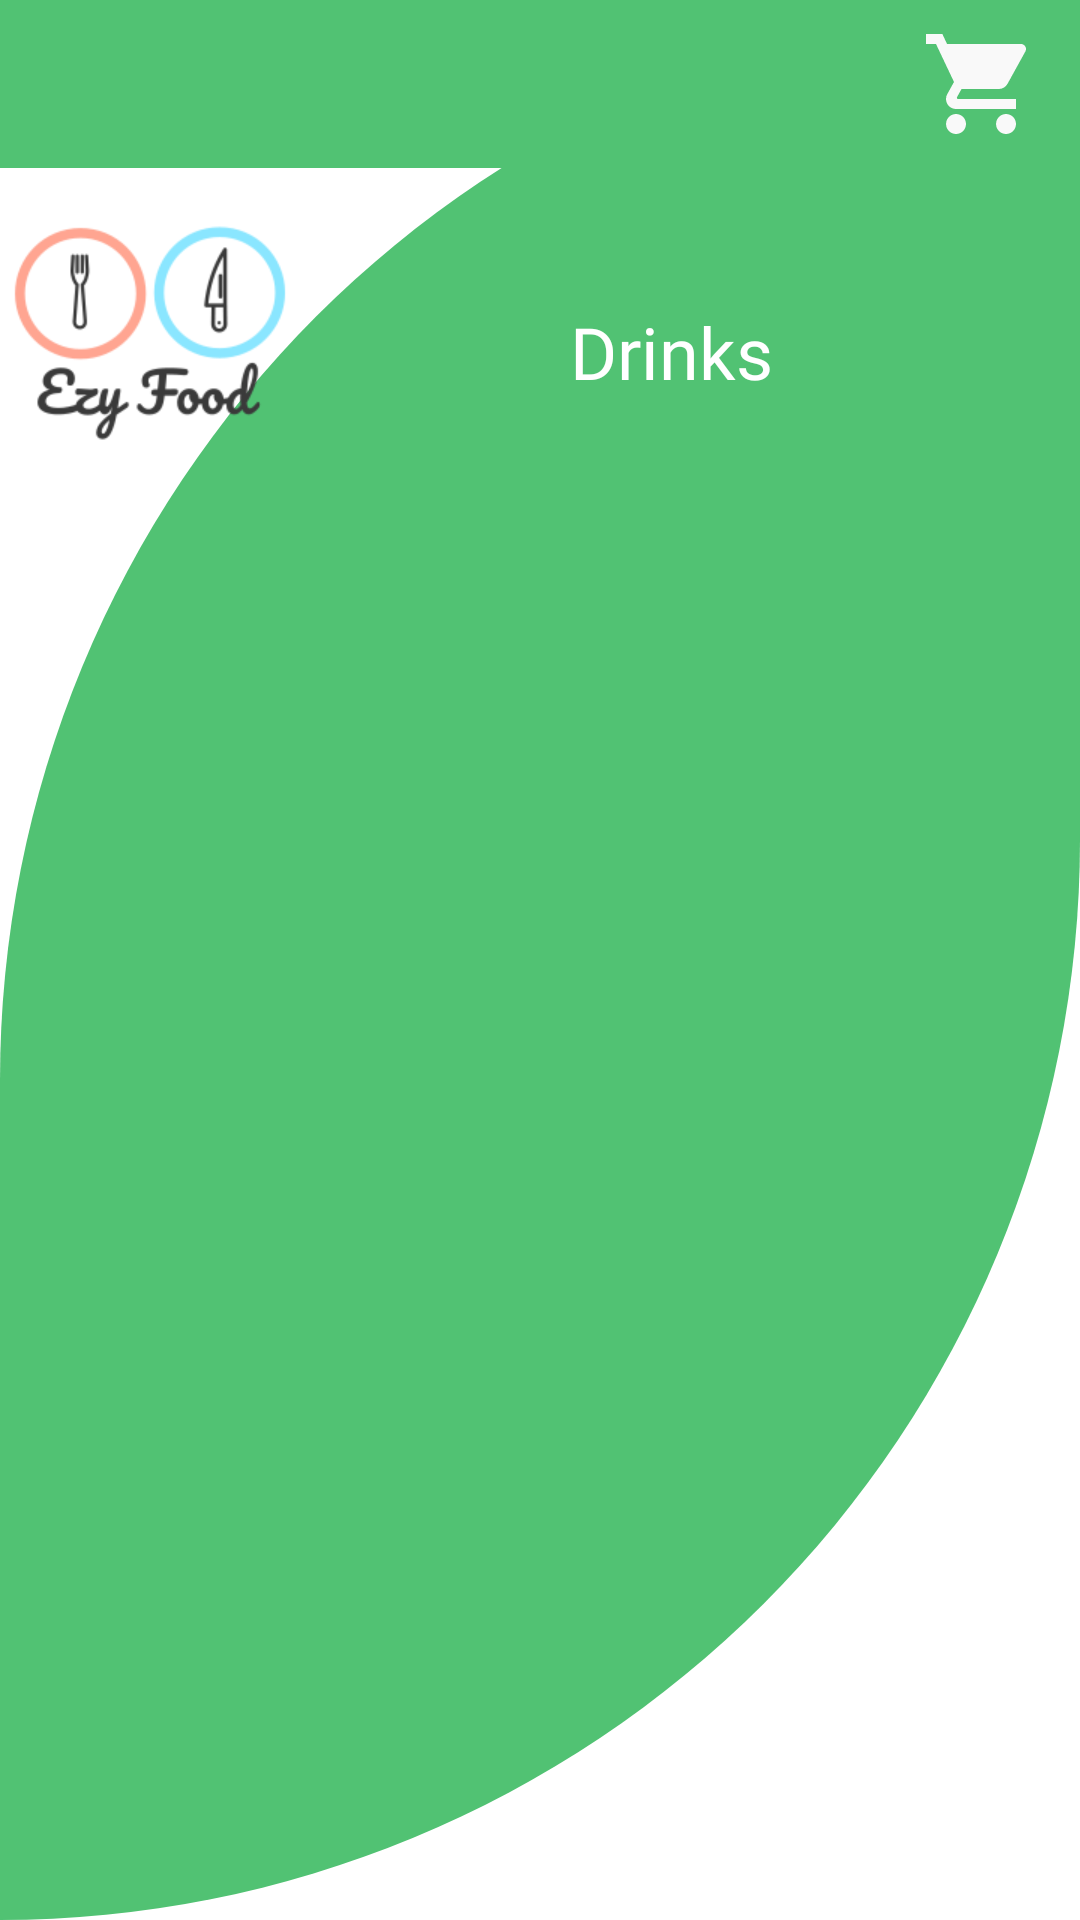

Where to tap for icons on this 1080 × 1920 app screen, as (x,y):
cart: (976,84)
